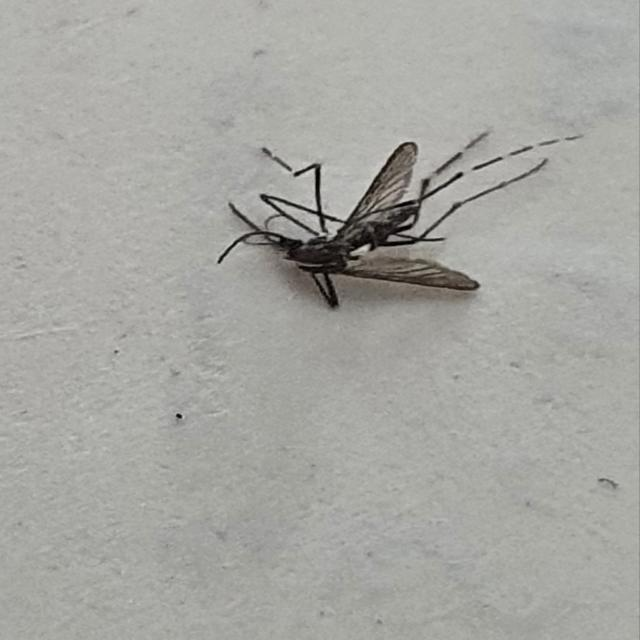albopictus: (215, 111, 575, 312)
